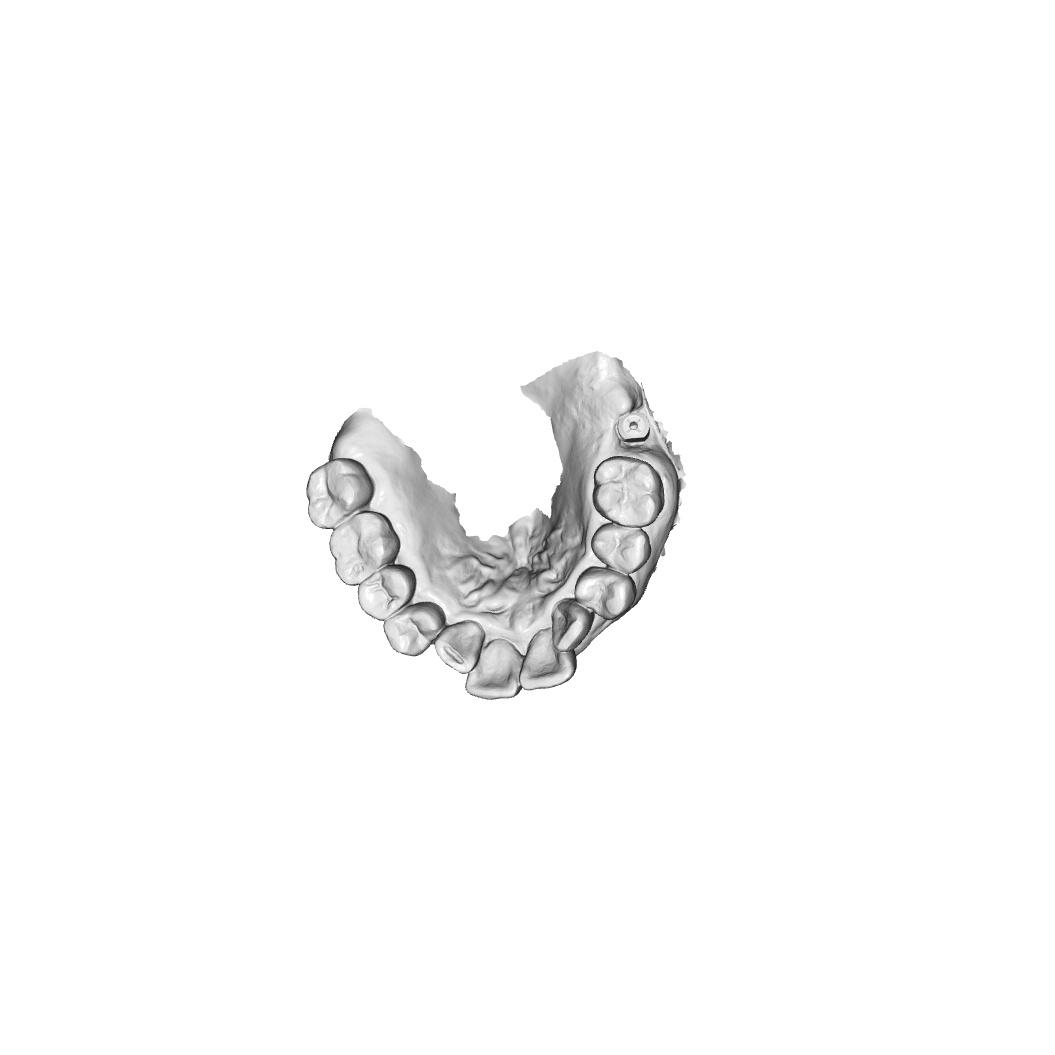canine: (432, 620, 484, 674), (550, 598, 595, 652)
implant_plus: (613, 411, 651, 444)
incisor: (519, 626, 578, 692), (464, 638, 525, 701)
molar: (329, 510, 401, 587), (591, 455, 665, 529), (306, 456, 375, 530)
premolar: (357, 563, 417, 622), (574, 565, 637, 621), (383, 601, 446, 657), (590, 522, 652, 576)
